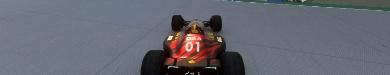Car: (138, 13, 246, 74)
